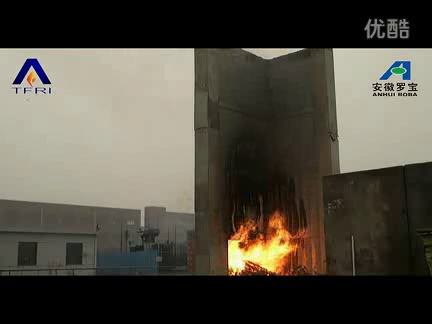fire: (223, 209, 307, 277)
